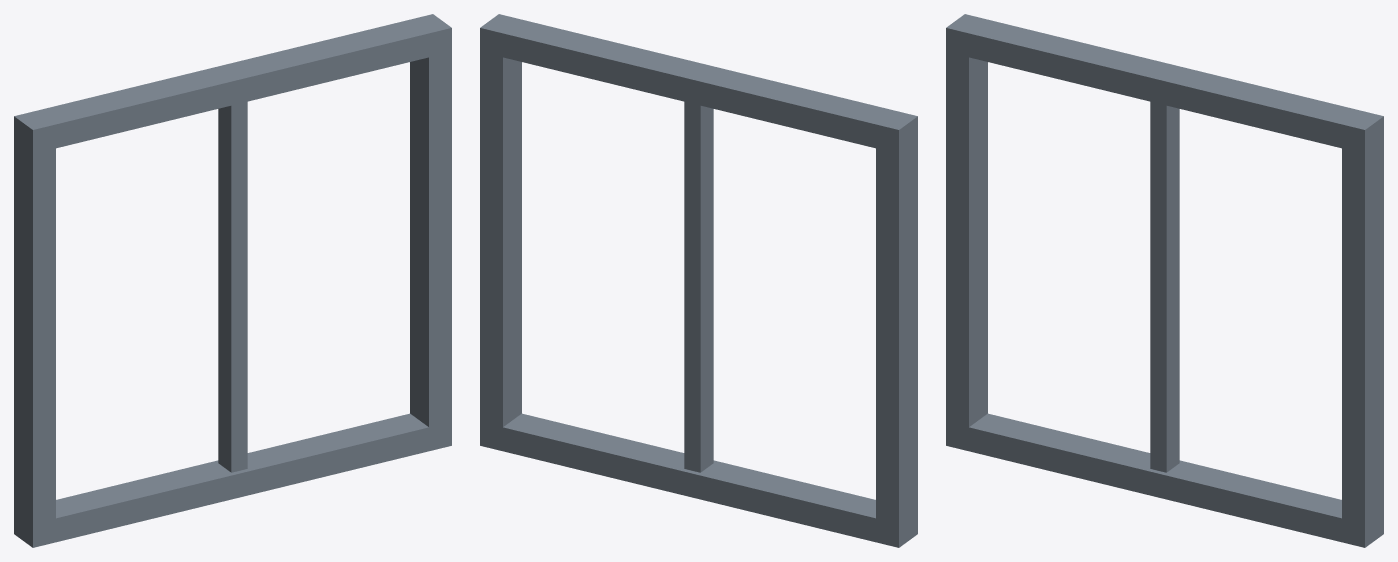
Rendered from frame.glb.
The picture shows the model from 3 angles, left to right: view 1: azimuth 30°, elevation 25°; view 2: azimuth 150°, elevation 25°; view 3: azimuth 330°, elevation 25°; orthographic projection.
Parts seen in each view (by area): view 1: window_frame; view 2: window_frame; view 3: window_frame.
Part boxes in pixels (x1,y1,x2,y2): window_frame: (14, 14, 451, 547); window_frame: (480, 14, 917, 547); window_frame: (946, 14, 1383, 547).
Size of the model in its own units: 1.28 by 1.22 by 0.1.
